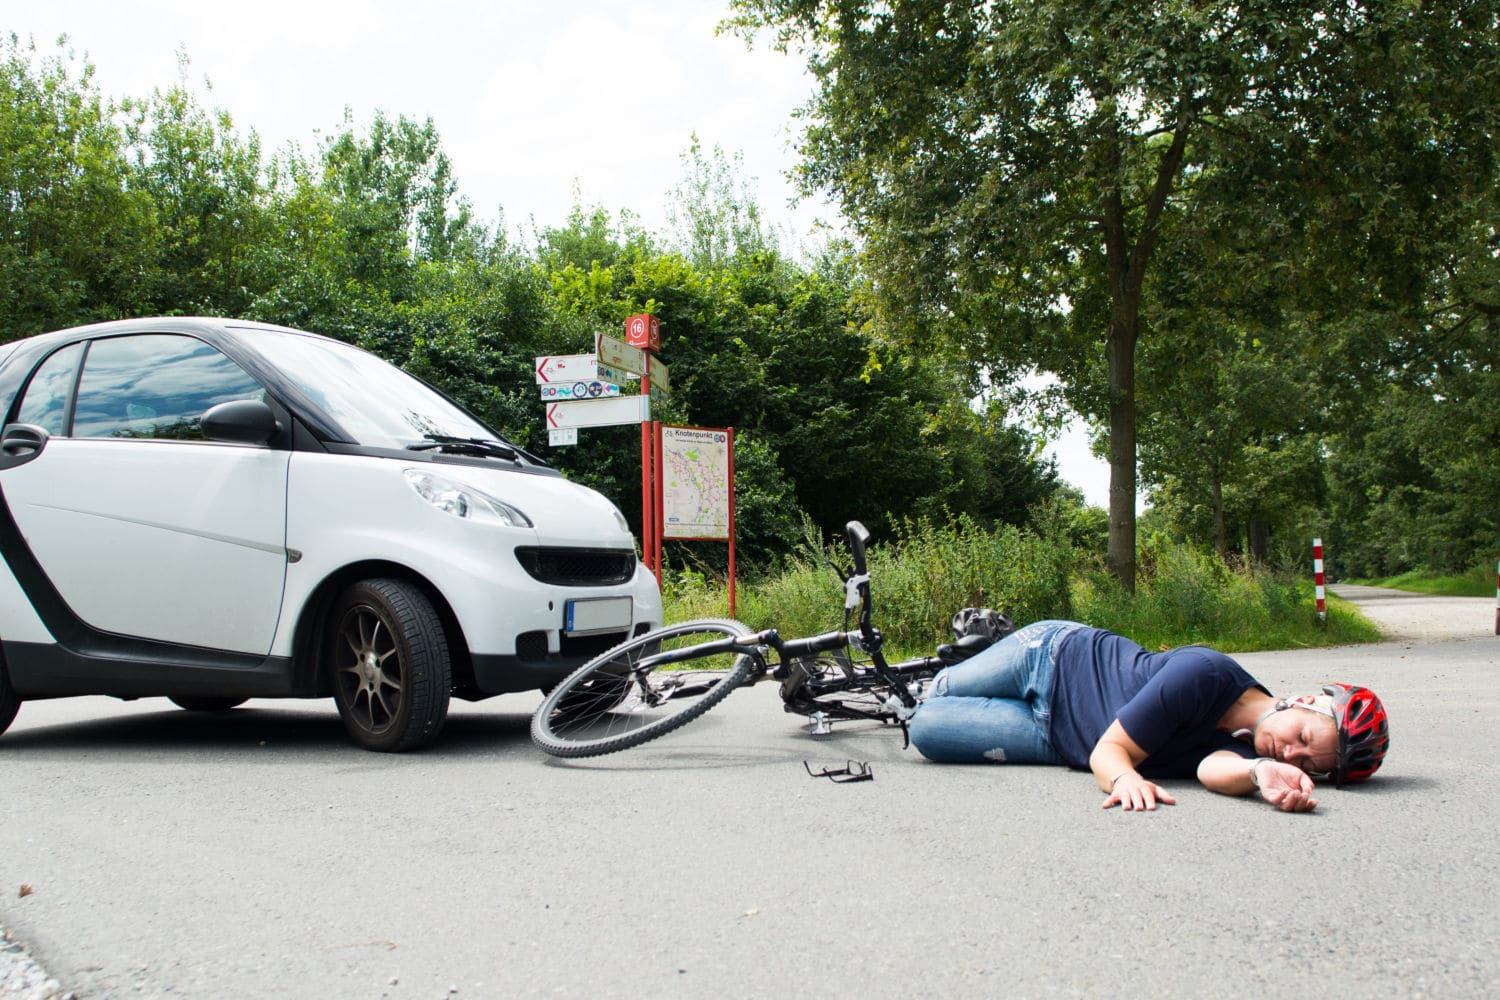helmet: (1253, 681, 1390, 789)
